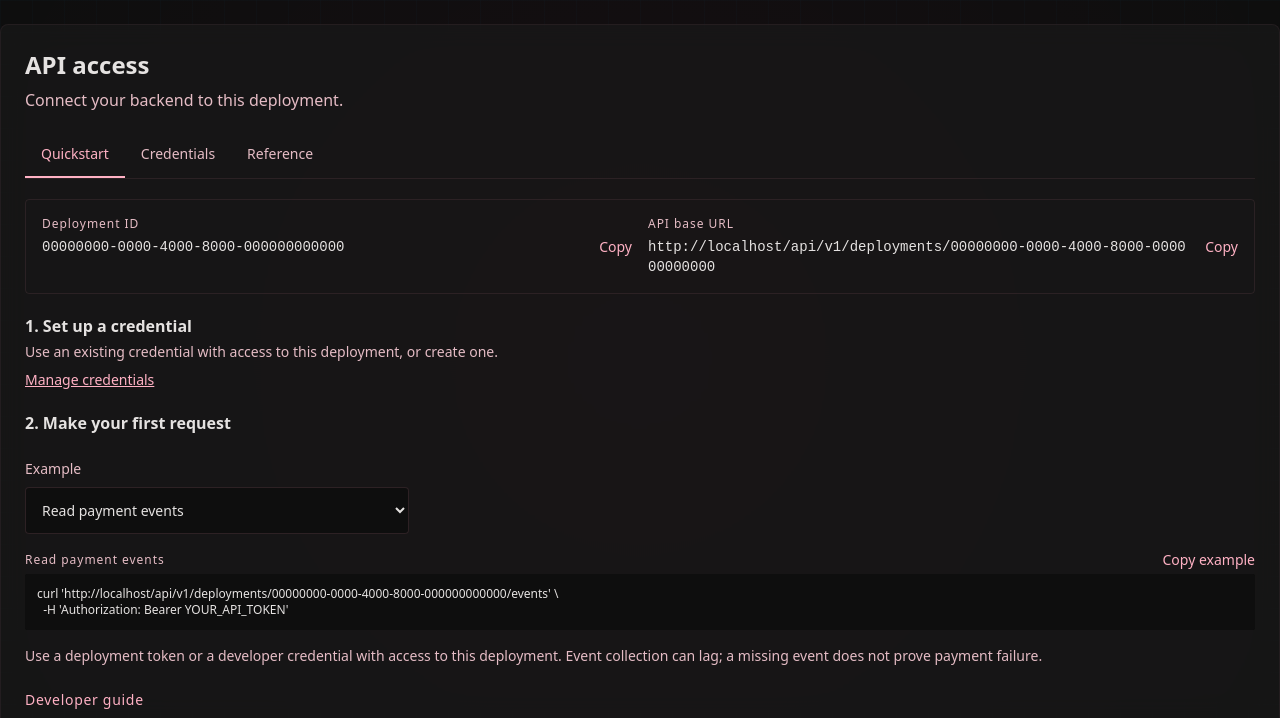
Scenario: deployment integration instructions › offers monitoring without deposit execution for subscription
Expected: the text "Read payment events command" shows "YOUR_API_TOKEN", x1=37 y1=585 x2=558 y2=618
Select "Set up a subscription allowance" in the dropdown labelled "Example": (217, 510) x1=25 y1=487 x2=409 y2=534
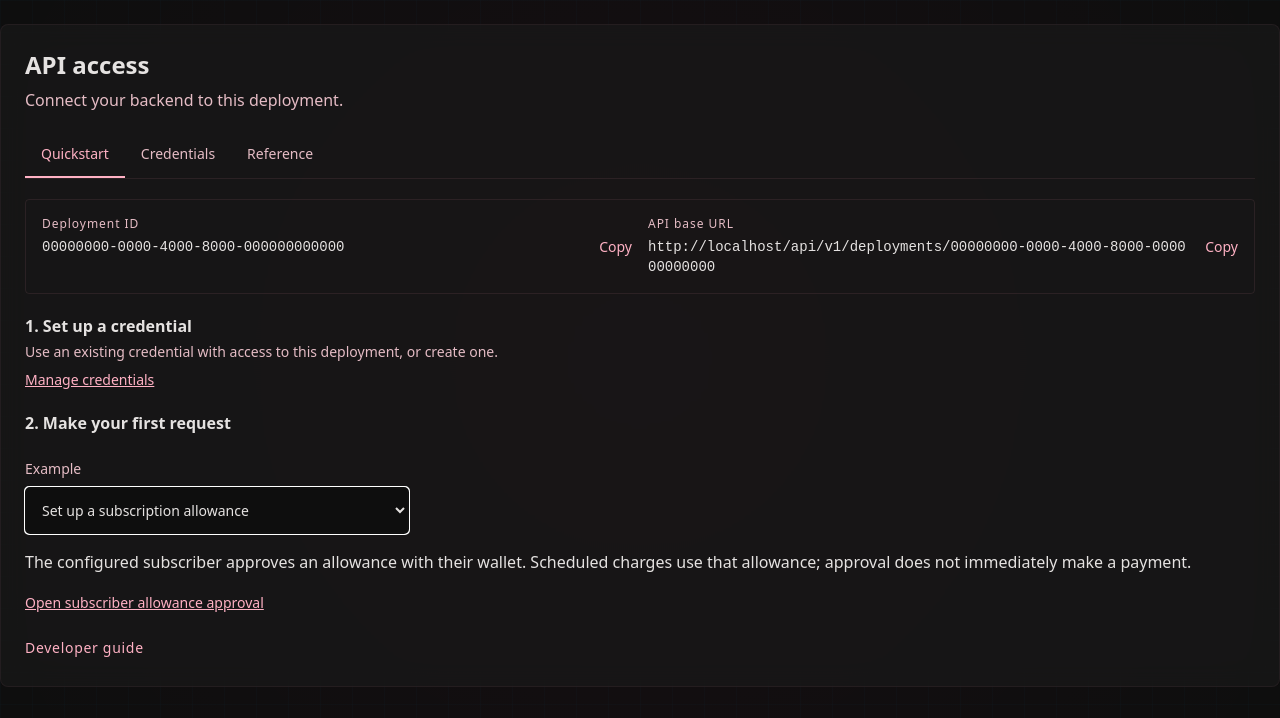
Click the tab "Reference": (280, 155) x1=231 y1=132 x2=329 y2=178
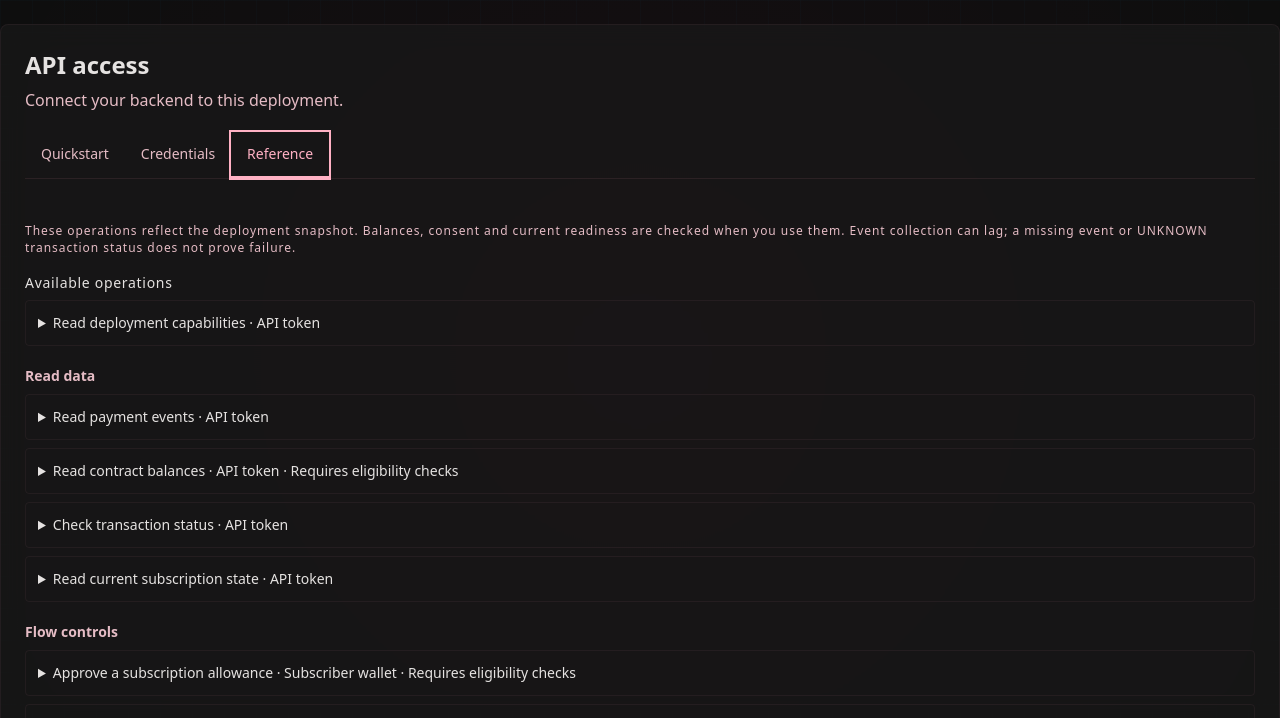
Expected: the heading "Check transaction status · API token" is shown, x1=53 y1=515 x2=288 y2=534
Expected: the heading "Approve a subscription allowance" shows "Subscriber wallet", x1=53 y1=663 x2=576 y2=682
